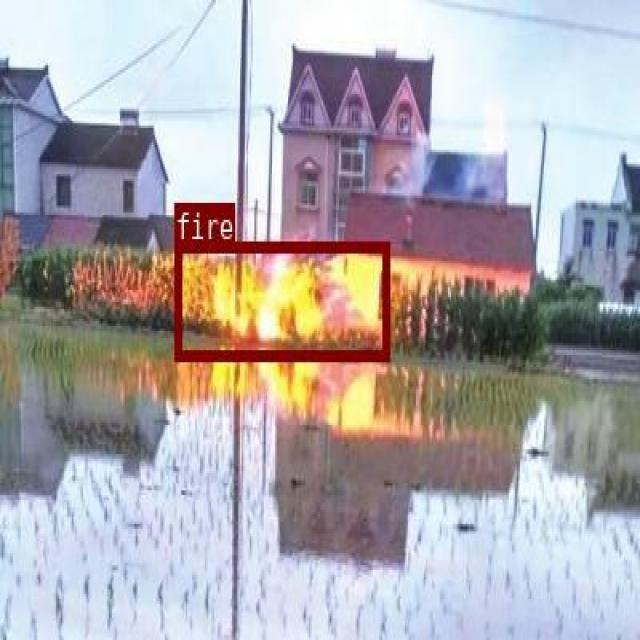fire: (173, 239, 389, 358)
